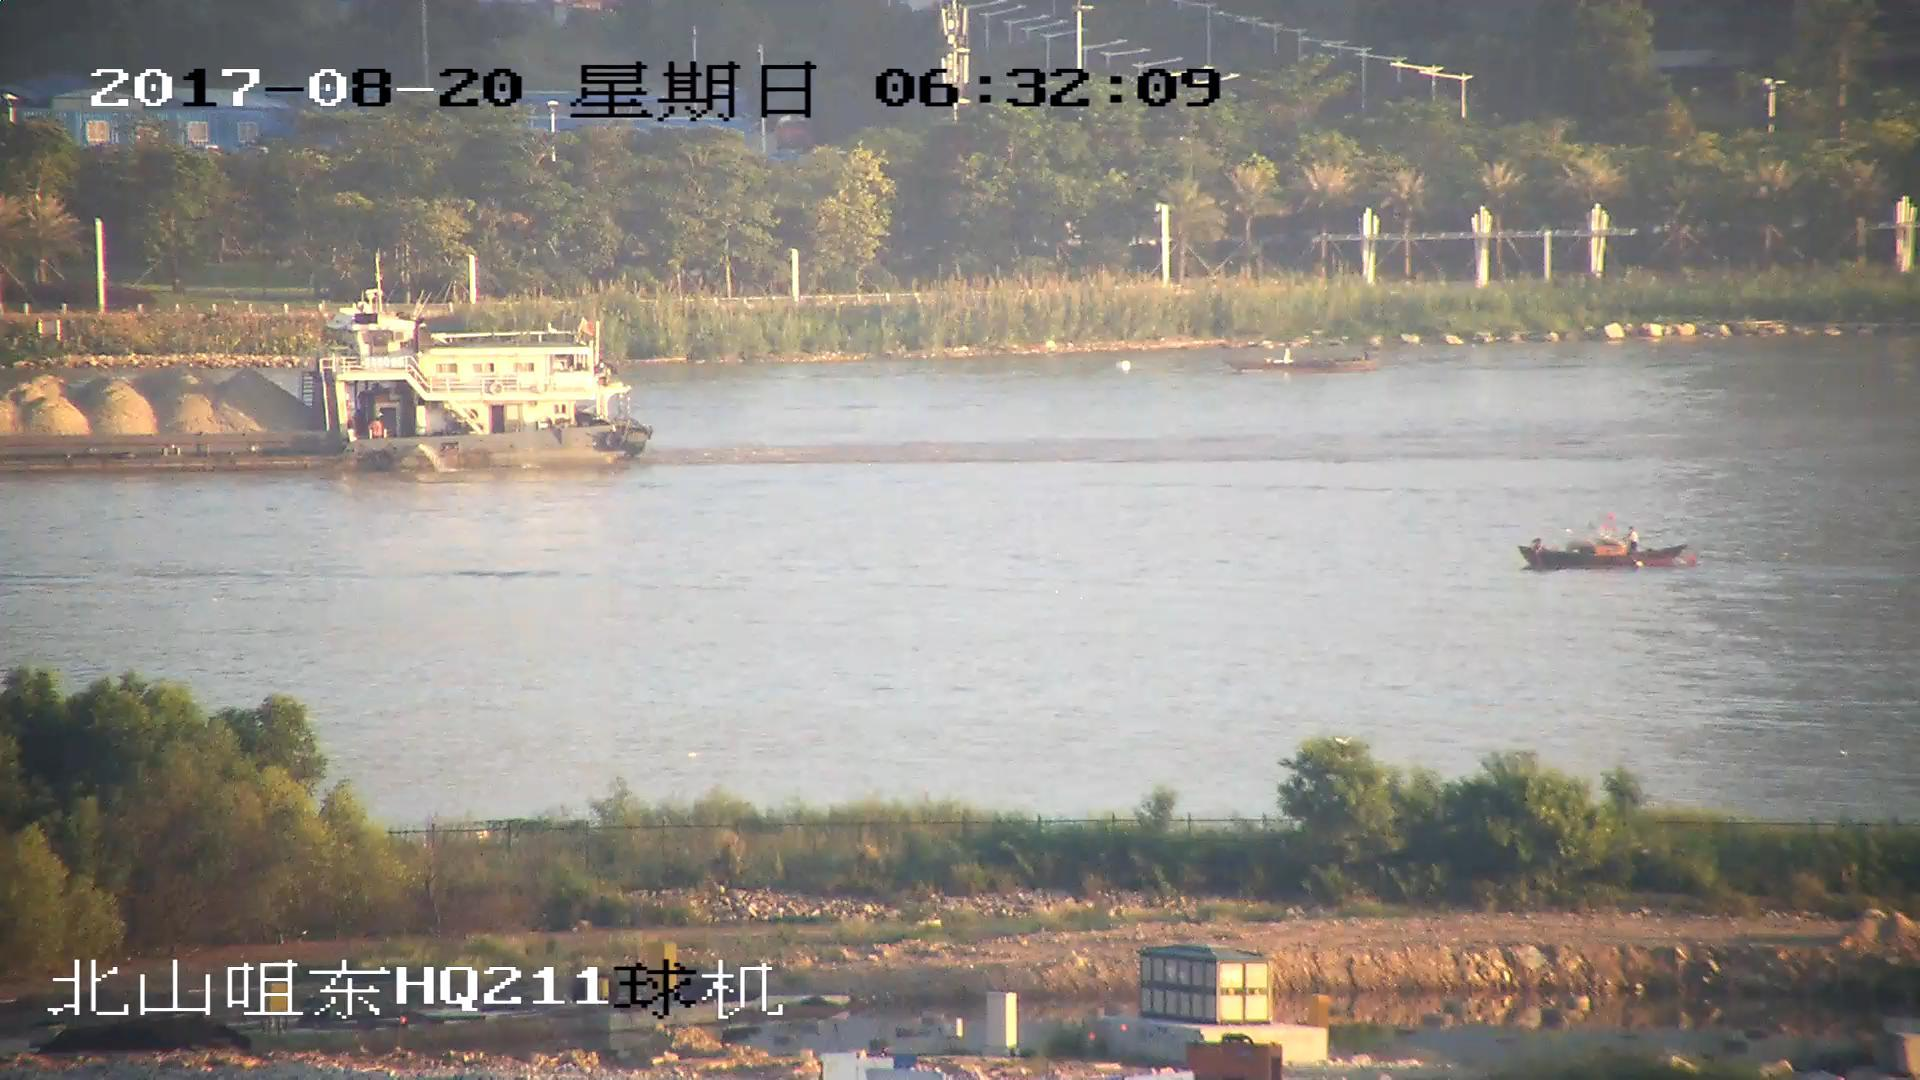Ship: (3, 261, 651, 471), (1518, 513, 1705, 576)
